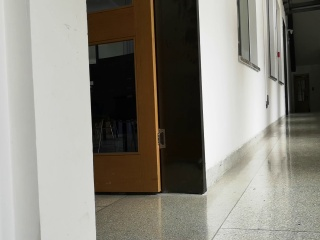room: (83, 1, 208, 196)
